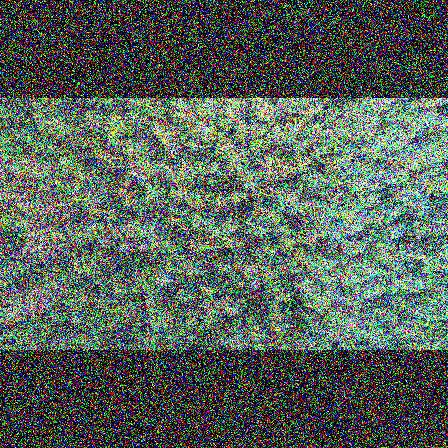Dead: (154, 266, 176, 292), (126, 166, 152, 182), (118, 242, 139, 254), (139, 241, 151, 255)
